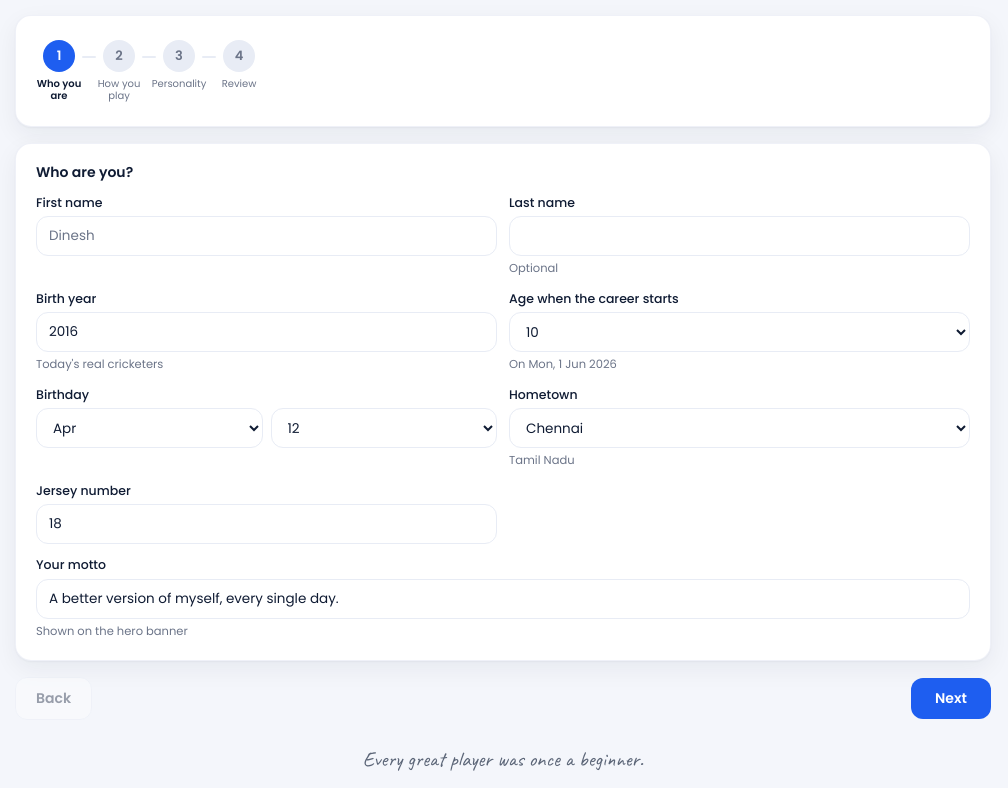
Test: NewCareer wizard › will not move on without a name
(page scrolled)
Click the button "Next" at (951, 699), box 911,678 -> 991,719
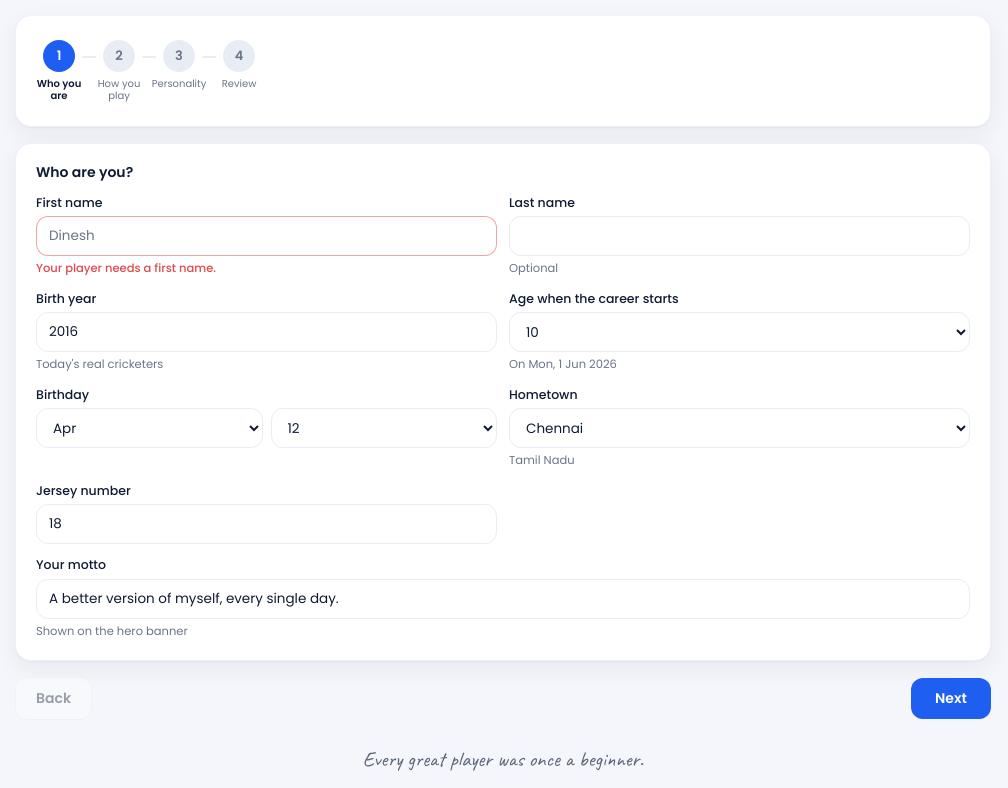
Expected: the field labelled "First name" is shown, 36,216 -> 497,256
Now the text "Your player needs a first name." is shown, box 36,260 -> 216,276
